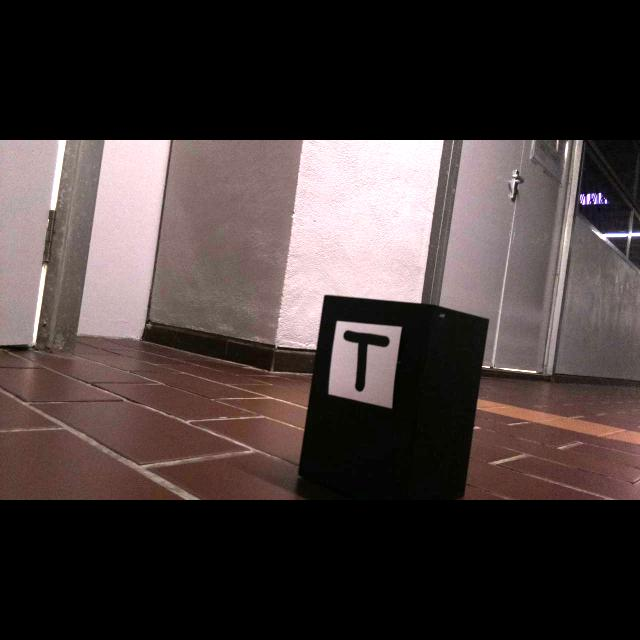T: (343, 330, 390, 392)
